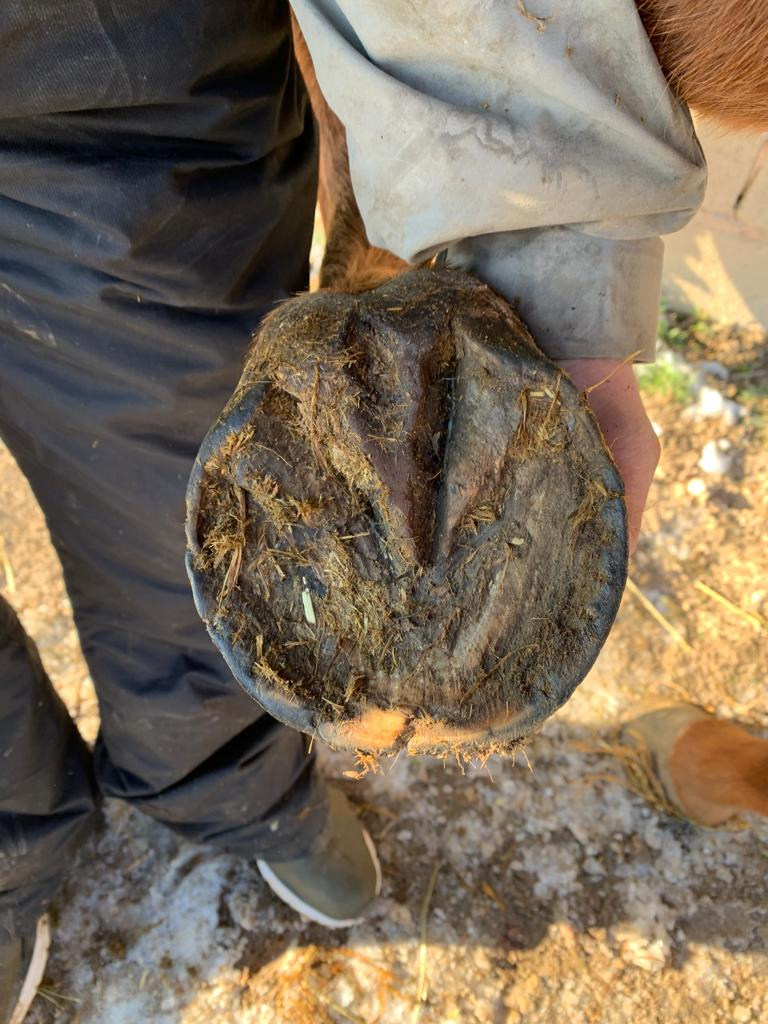horsesole: (184, 321, 628, 760)
